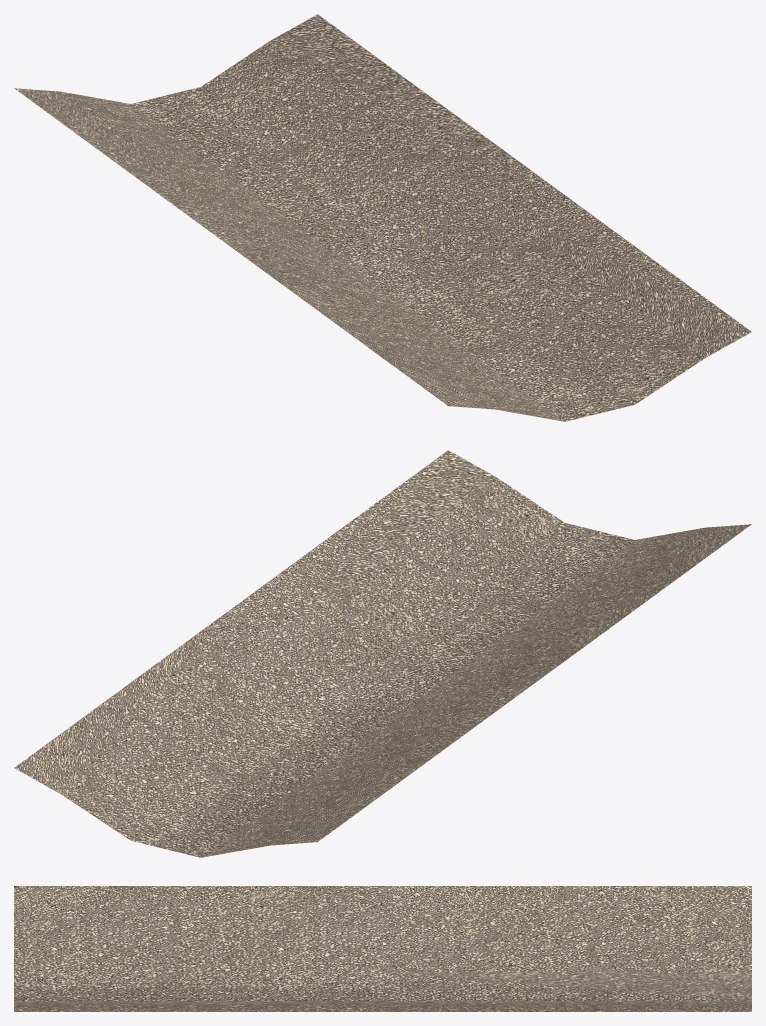
The model's file is SM_Sediments_01.fbx.
3 views of the same model, one above another, from view 1: azimuth 30°, elevation 25°; view 2: azimuth 150°, elevation 25°; view 3: azimuth 270°, elevation 25° (orthographic). The views are drawn at different scales.
Visible parts, largest first — view 1: SM_Sediments_01; view 2: SM_Sediments_01; view 3: SM_Sediments_01.
Part boxes in pixels (x1,y1,x2,y2): SM_Sediments_01: [14, 14, 751, 421]; SM_Sediments_01: [14, 450, 751, 857]; SM_Sediments_01: [14, 886, 751, 1011].
Bounding box in the file's own units: 4.34 × 0.6048 × 10.76.
